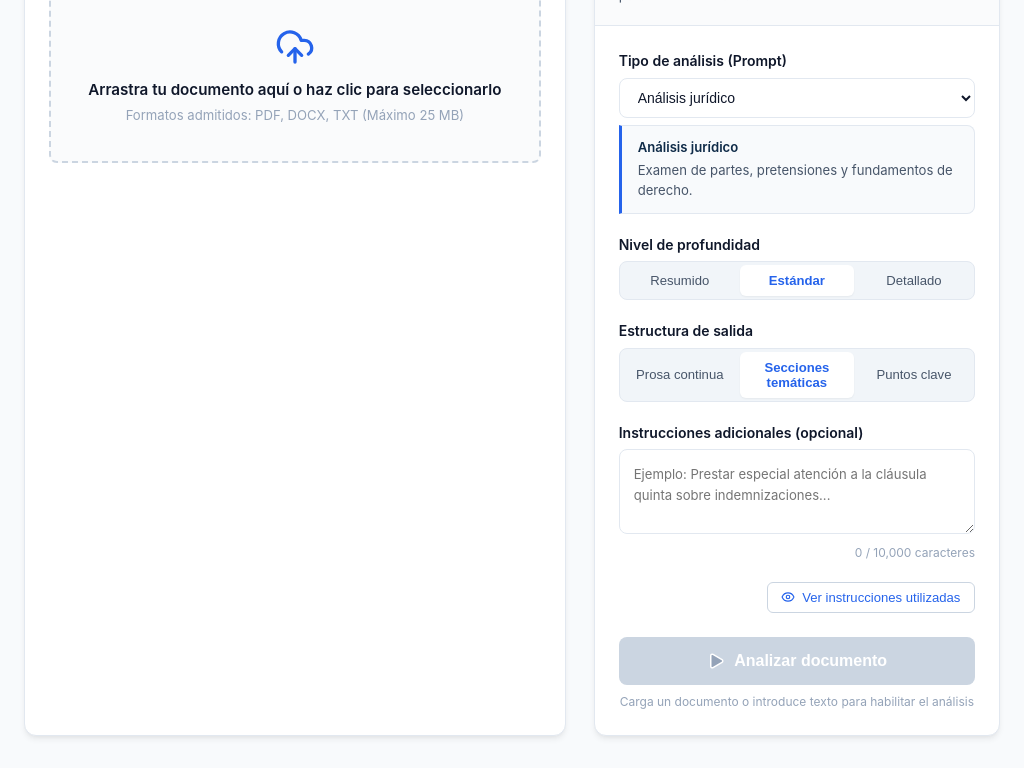
Test case: Bloque 7D — Flexibilidad Total de Prompts y Transparencia › abre el modal "Ver instrucciones utilizadas" en la pantalla de análisis con las 5 capas desglosadas
(page scrolled)
Click the button "Ver instrucciones utilizadas".
click(871, 597)  # box [766,582,975,613]
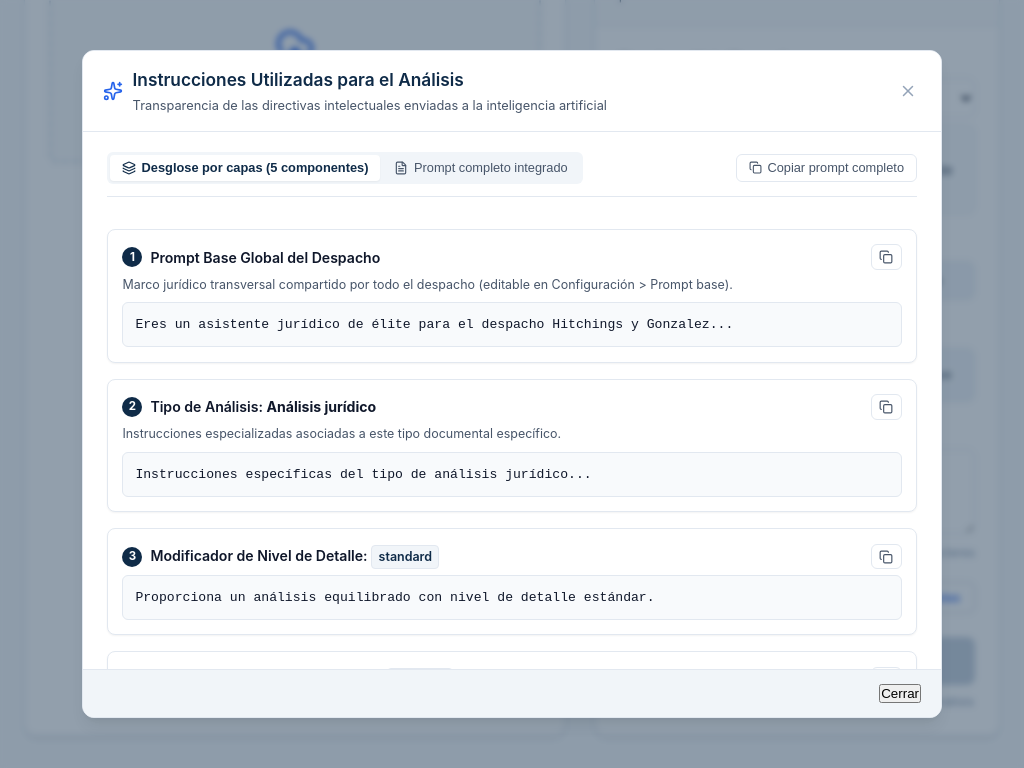
Now the dialog "Instrucciones Utilizadas para el Análisis" is shown
Now the heading "Prompt Base Global del Despacho" is shown, box [150,247,380,268]
Now the heading "Tipo de Análisis: Análisis jurídico" is shown, box [150,396,376,418]
Note: Comprobar cambio a vista integrada
Click the button "Prompt completo integrado".
click(481, 168)  # box [382,155,580,181]
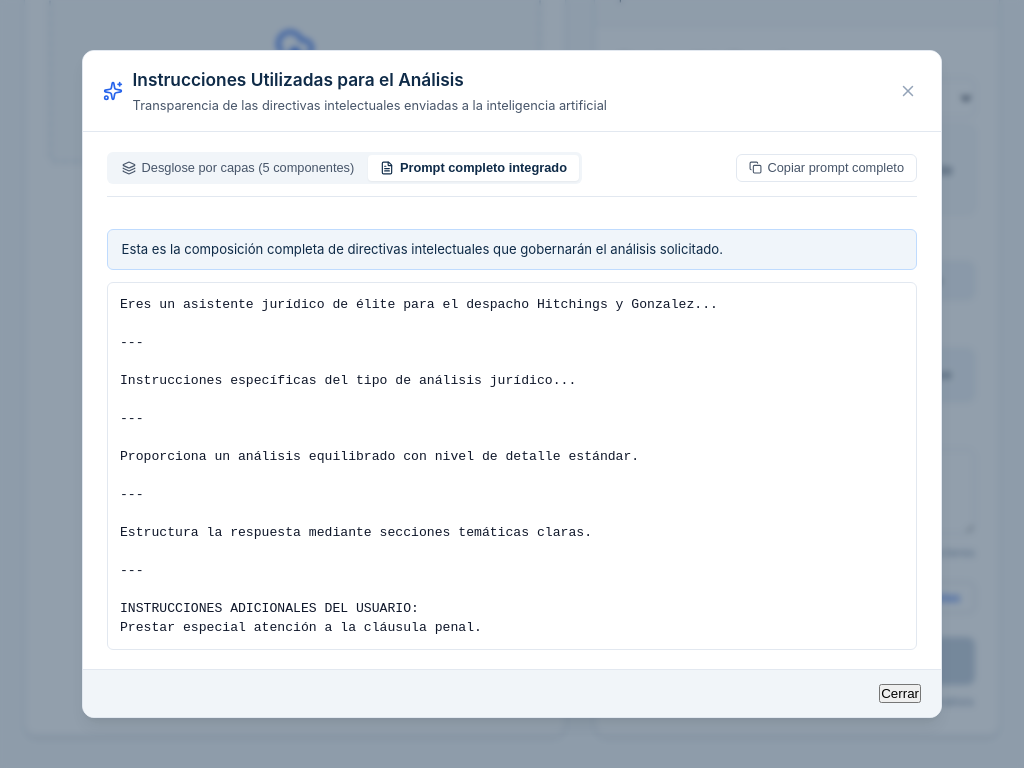
Now the text "Esta es la composición completa de directivas intelectuales" is shown, box [122,241,723,257]
Note: Cerrar modal con botón Cerrar exacto
Click the button "Cerrar".
click(900, 694)  # box [879,684,921,703]
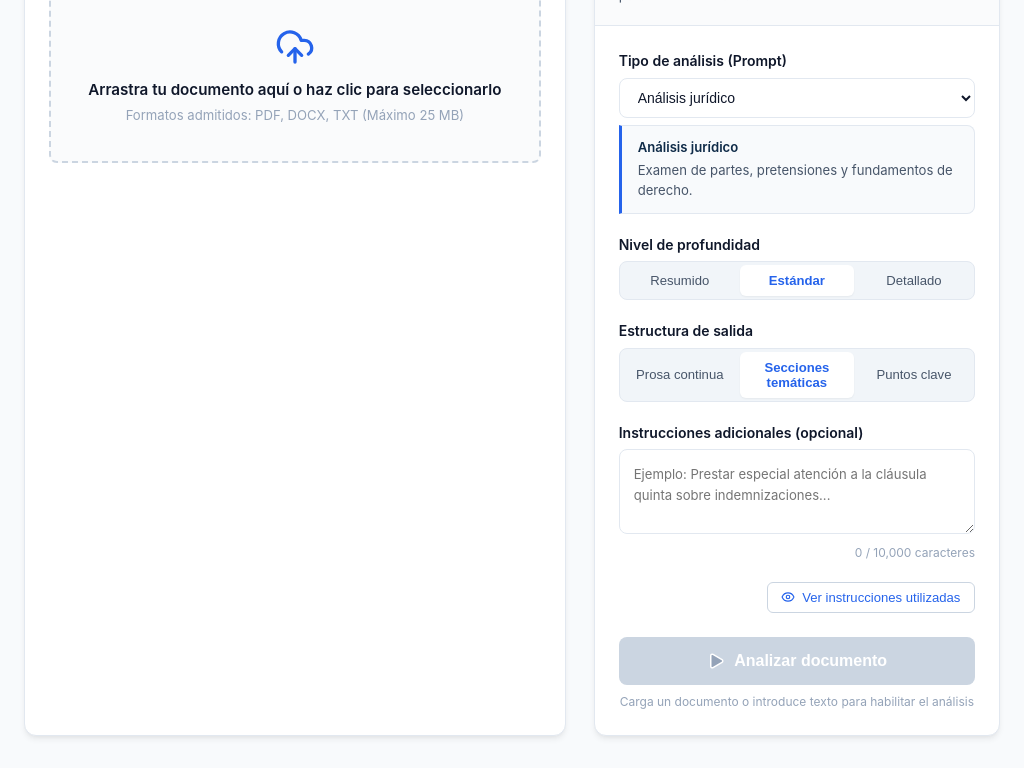
Now the heading "Instrucciones Utilizadas para el Análisis" is gone
